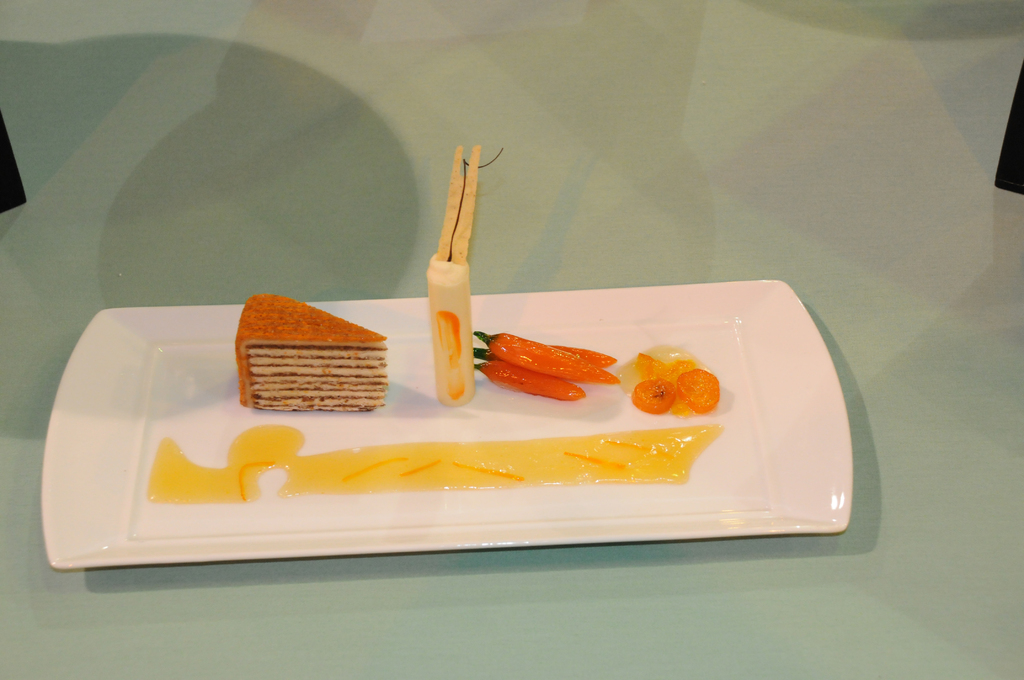plate: (40, 279, 853, 569)
